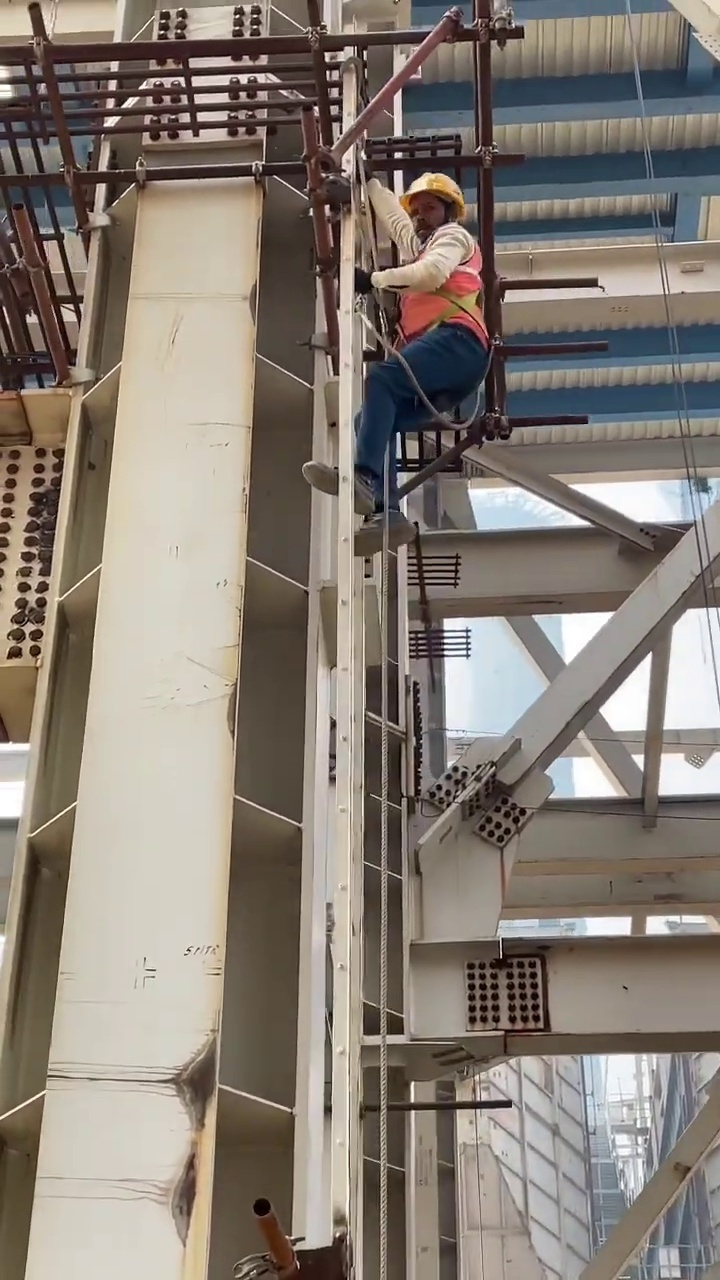Helmet: (402, 168, 467, 210)
Person: (309, 172, 497, 560)
Safety_Harness: (384, 227, 495, 426)
Safety_shoes: (304, 456, 382, 518), (345, 513, 417, 556)
